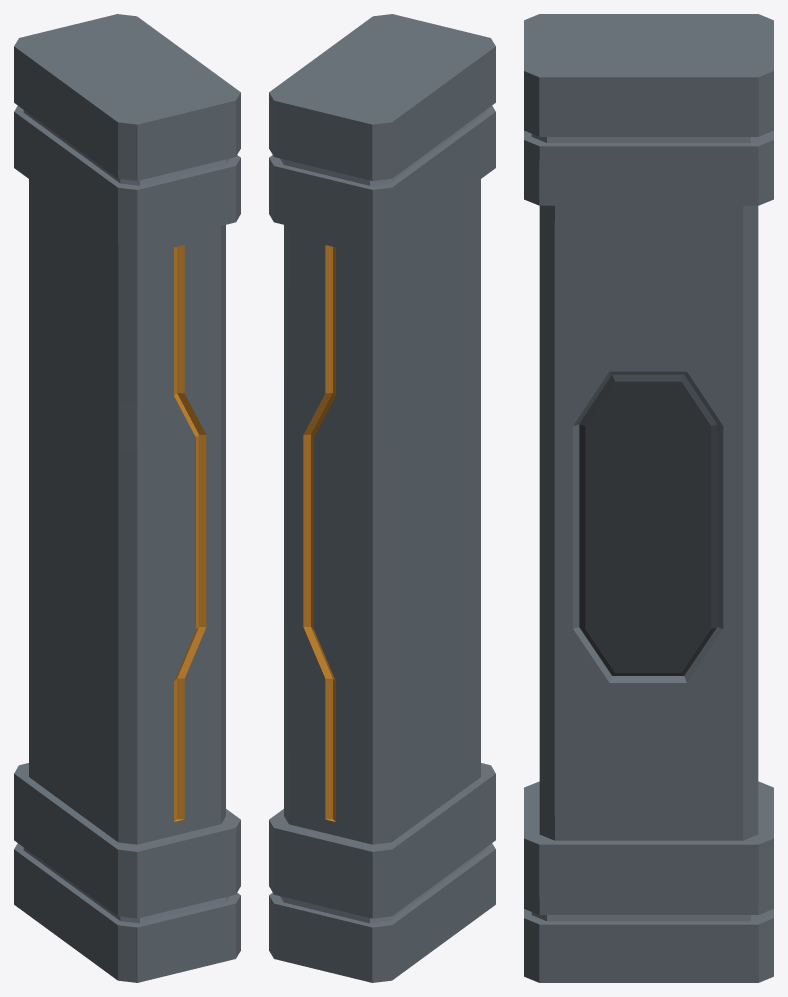
File: SM_Wall_ventilation.glb
3 renders of one model, left to right at view 1: azimuth 30°, elevation 25°; view 2: azimuth 150°, elevation 25°; view 3: azimuth 270°, elevation 25°, orthographic. The views are drawn at different scales.
Parts seen in each view (by area): view 1: SM_Wall_ventilation; view 2: SM_Wall_ventilation; view 3: SM_Wall_ventilation.
Boxes of the visible parts, x1=… form: SM_Wall_ventilation: x1=14, y1=14, x2=240, y2=982; SM_Wall_ventilation: x1=269, y1=14, x2=495, y2=982; SM_Wall_ventilation: x1=524, y1=14, x2=773, y2=982.
Bounding box in the file's own units: 0.3 × 2 × 0.5.
1 material, 1 textured.
